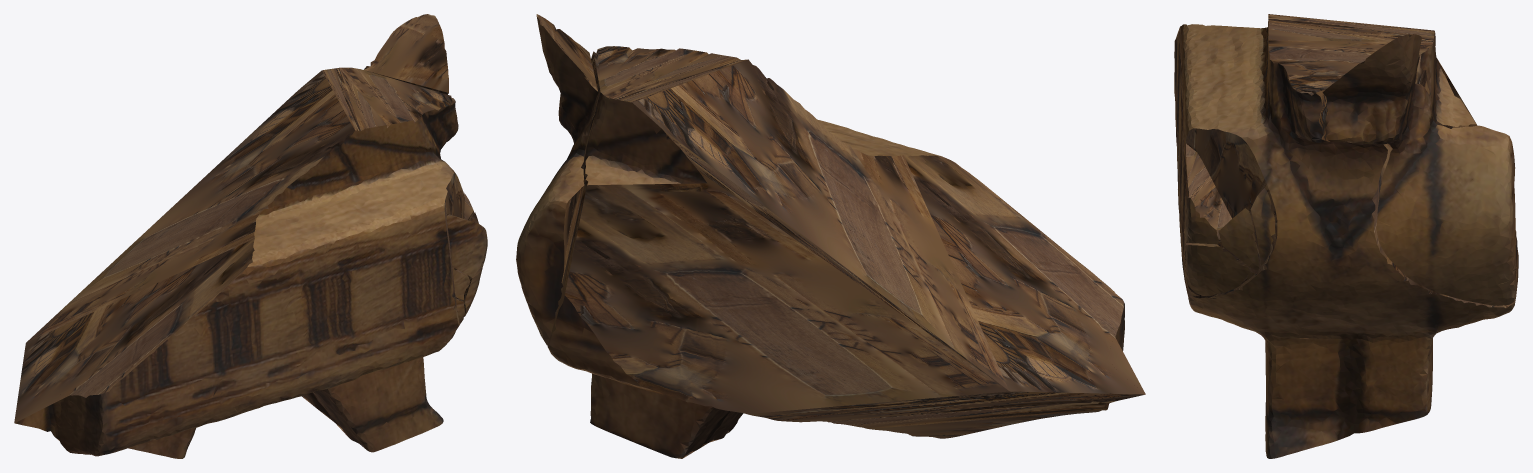
3 views of the same model, side by side, from view 1: azimuth 30°, elevation 25°; view 2: azimuth 150°, elevation 25°; view 3: azimuth 270°, elevation 25° (orthographic). The views are drawn at different scales.
Parts seen in each view (by area): view 1: KLA-Or-10000_cell.004; view 2: KLA-Or-10000_cell.004; view 3: KLA-Or-10000_cell.004.
Boxes of the visible parts, x1,y1,x2,y2 form: KLA-Or-10000_cell.004: (14, 14, 487, 458); KLA-Or-10000_cell.004: (516, 14, 1145, 458); KLA-Or-10000_cell.004: (1174, 14, 1518, 458).
Bounding box in the file's own units: 79.44 × 59.36 × 40.11.
